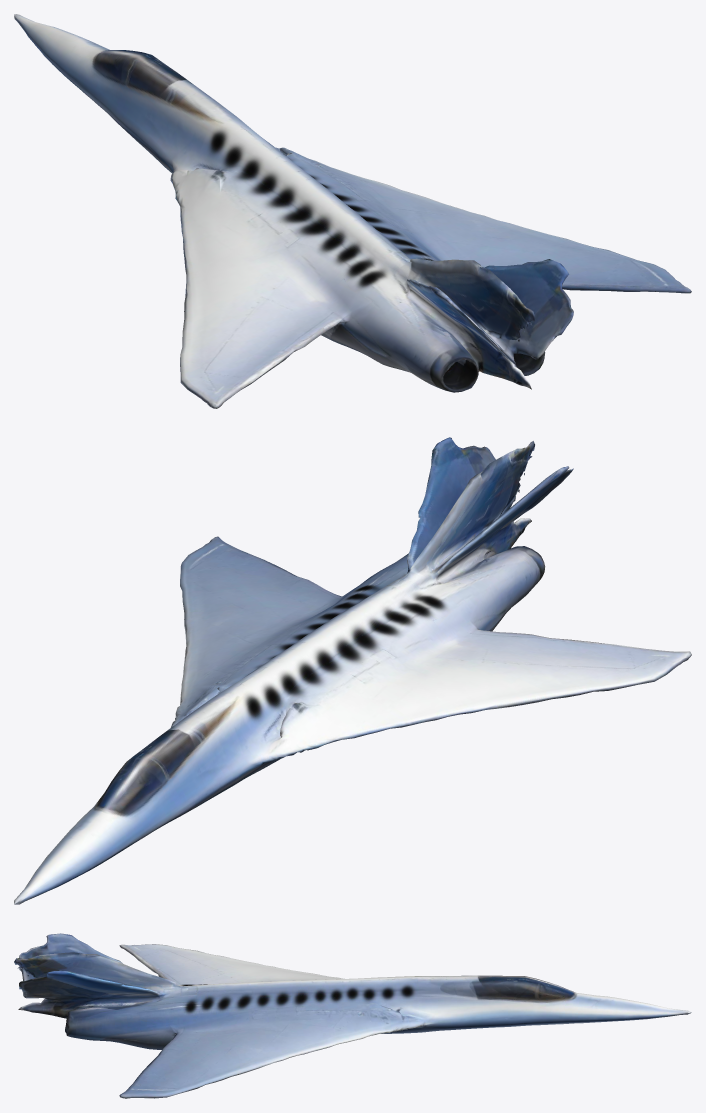
3 views of the same model, one above another, from view 1: azimuth 30°, elevation 25°; view 2: azimuth 150°, elevation 25°; view 3: azimuth 270°, elevation 25° (orthographic). The views are drawn at different scales.
Visible parts, largest first — view 1: Mesh_0; view 2: Mesh_0; view 3: Mesh_0.
Boxes of the visible parts, left/top/right/bottom form: Mesh_0: left=14, top=14, right=691, bottom=408; Mesh_0: left=14, top=437, right=691, bottom=904; Mesh_0: left=14, top=933, right=691, bottom=1098.
Bounding box in the file's own units: 6.52 × 1.88 × 12.29.
Materials: 1 (1 with a texture image).
